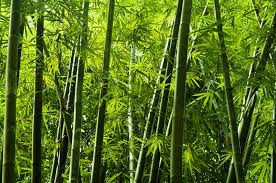bamboo: (10, 10, 267, 171)
